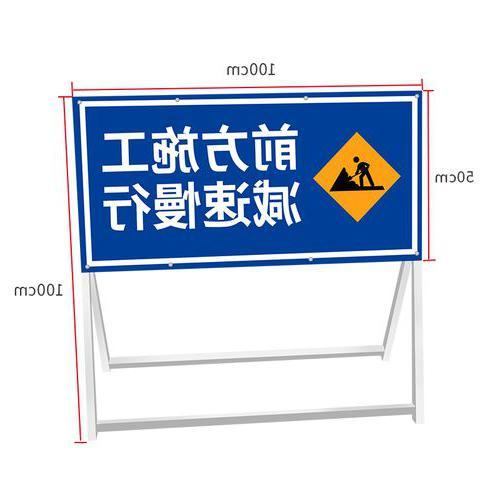sign: (71, 88, 424, 270)
